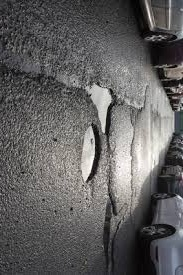pothole: (83, 77, 117, 133), (79, 121, 98, 180)
